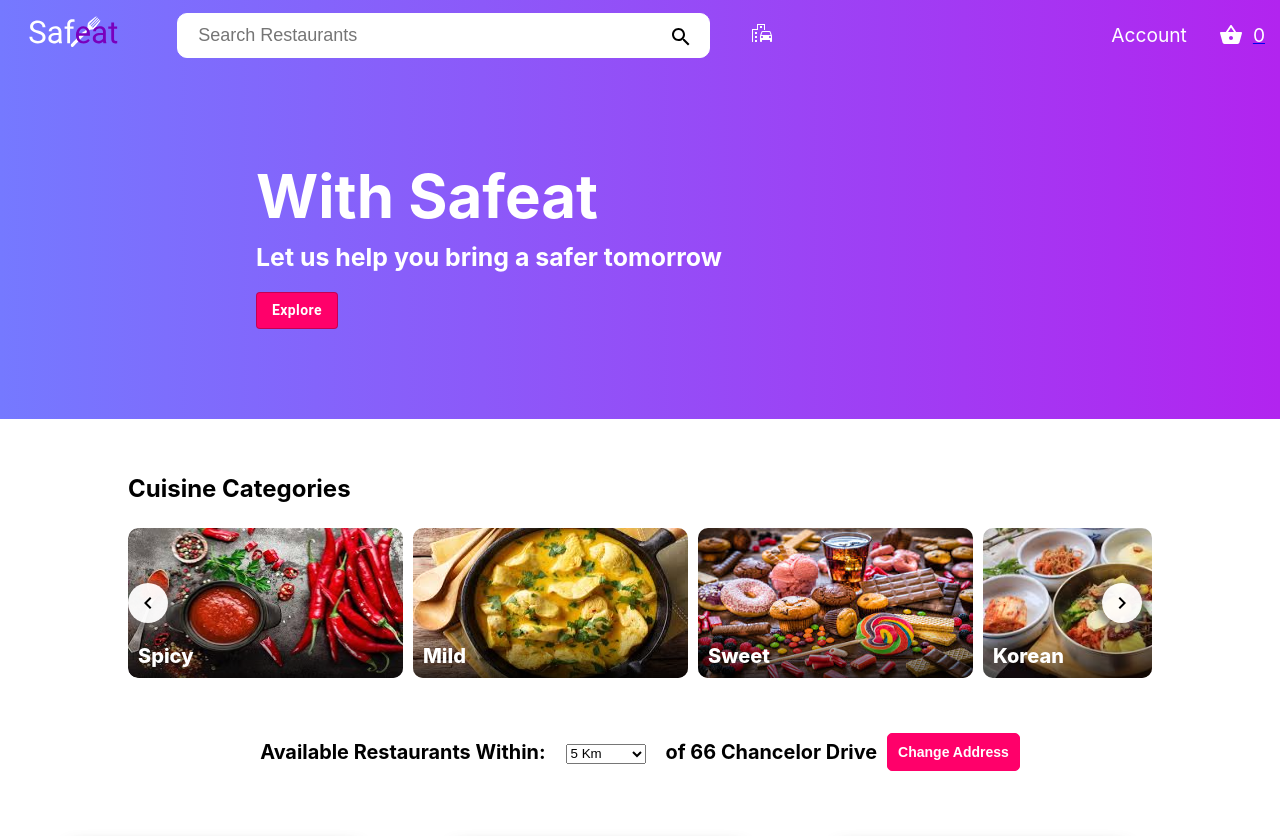
Test: Search Restaurants By Name
In the field with placeholder "Search Restaurants": {"x": 314, "y": 35} [188,24,440,46], type "R3"
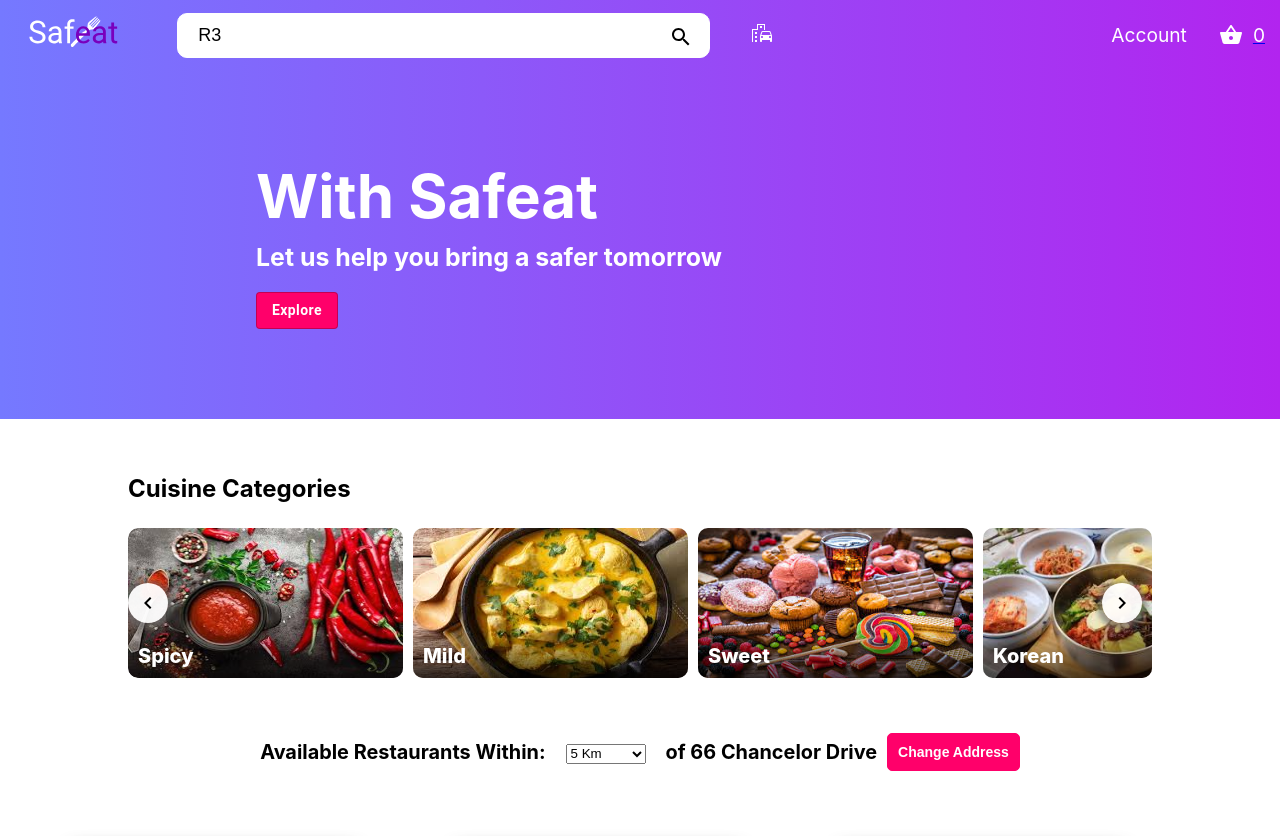
Submit the form from the field with placeholder "Search Restaurants", box [188,24,440,46]
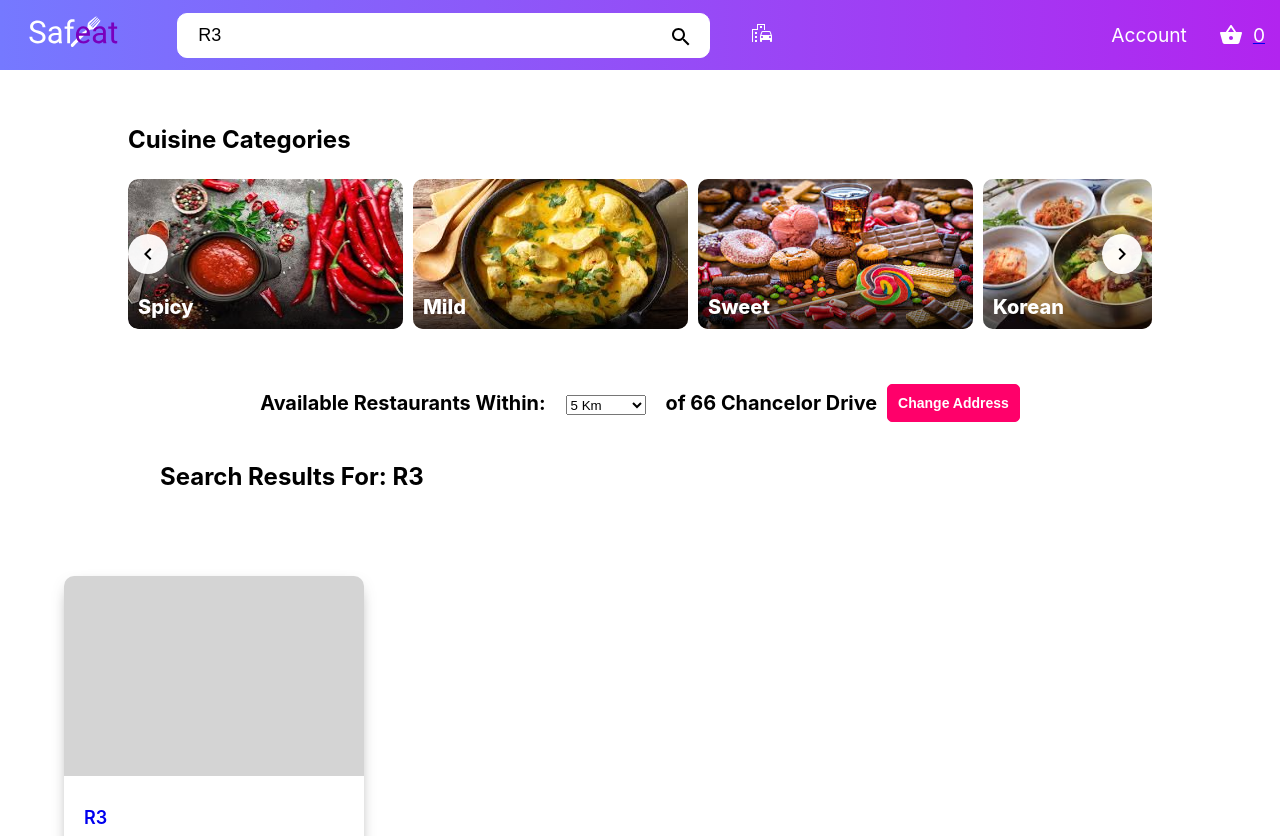
Now the heading "R3" is shown, box [84,807,107,828]
Now the heading "Search Results For: R3" is shown, box [160,462,424,491]
